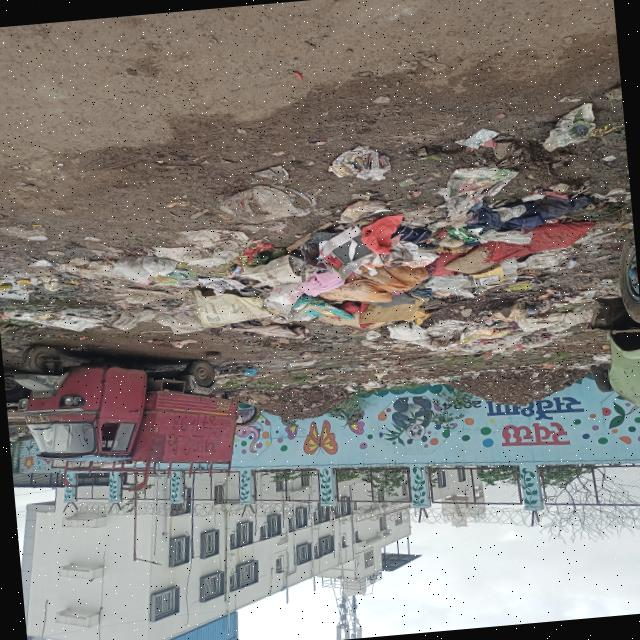garbage: (11, 182, 380, 362), (376, 118, 590, 358), (426, 364, 568, 415), (235, 378, 349, 424), (348, 374, 426, 395)
